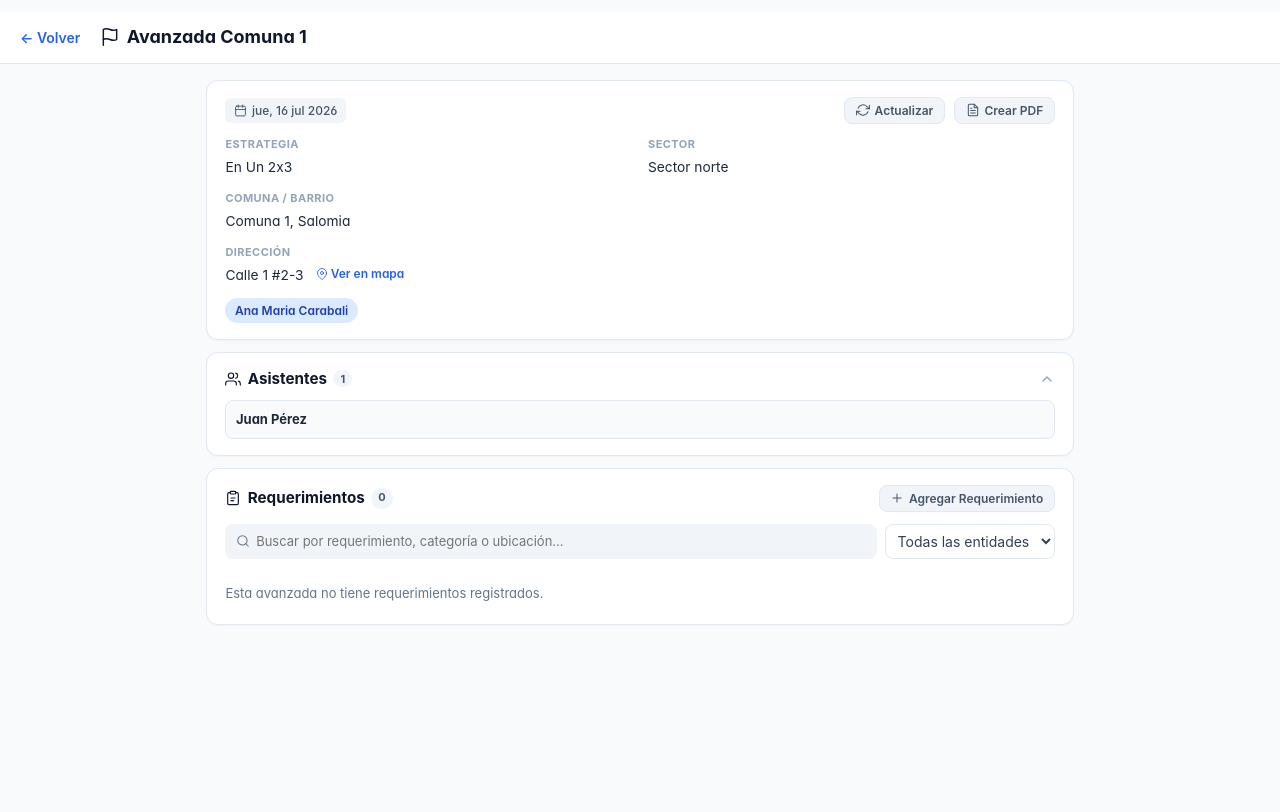
Test: DetalleAvanzada › asistentes › is collapsible: clicking the section header hides the asistentes list
Check: the text "Juan Pérez" is shown, box x1=236 y1=409 x2=307 y2=430
Click the button "Asistentes 1" at (287, 379), box x1=225 y1=369 x2=1055 y2=388
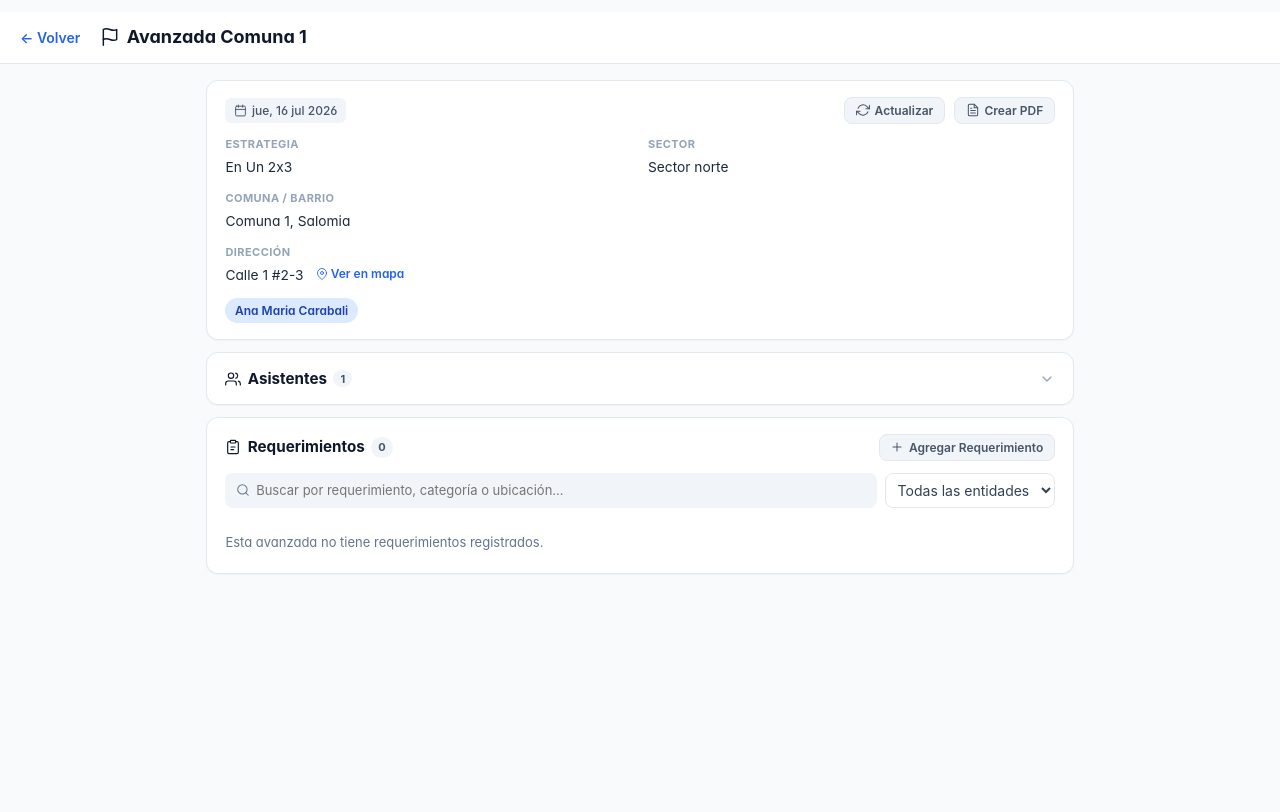
Check: the text "Juan Pérez" is gone
